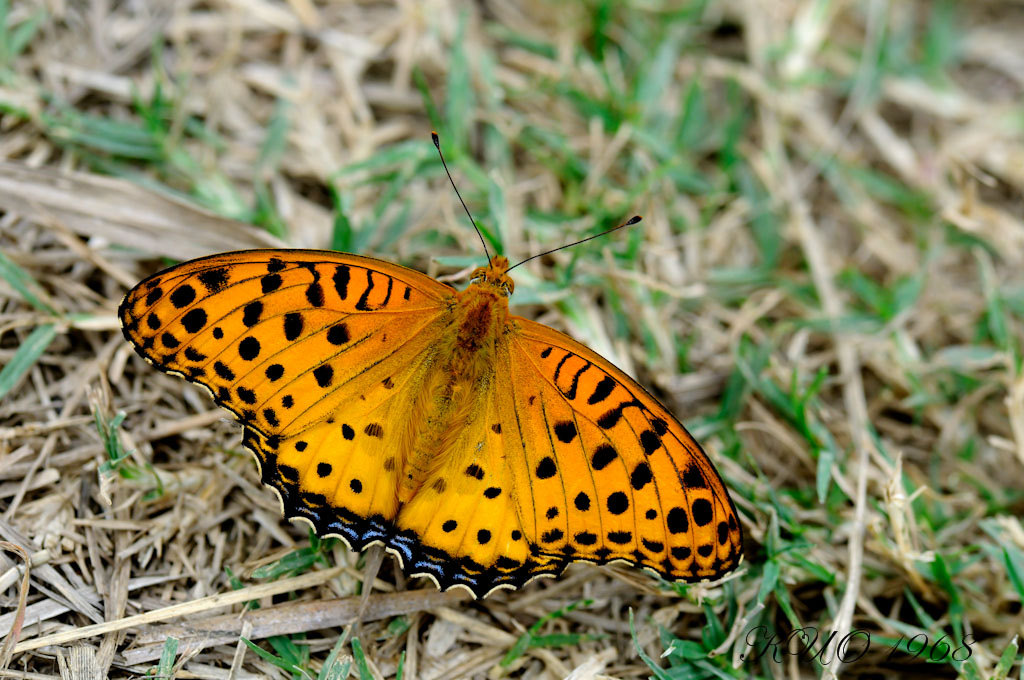Argyreus hyperbius: (107, 121, 751, 605)
butterfly: (109, 123, 753, 607)
